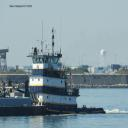tugboat: (8, 40, 108, 117)
